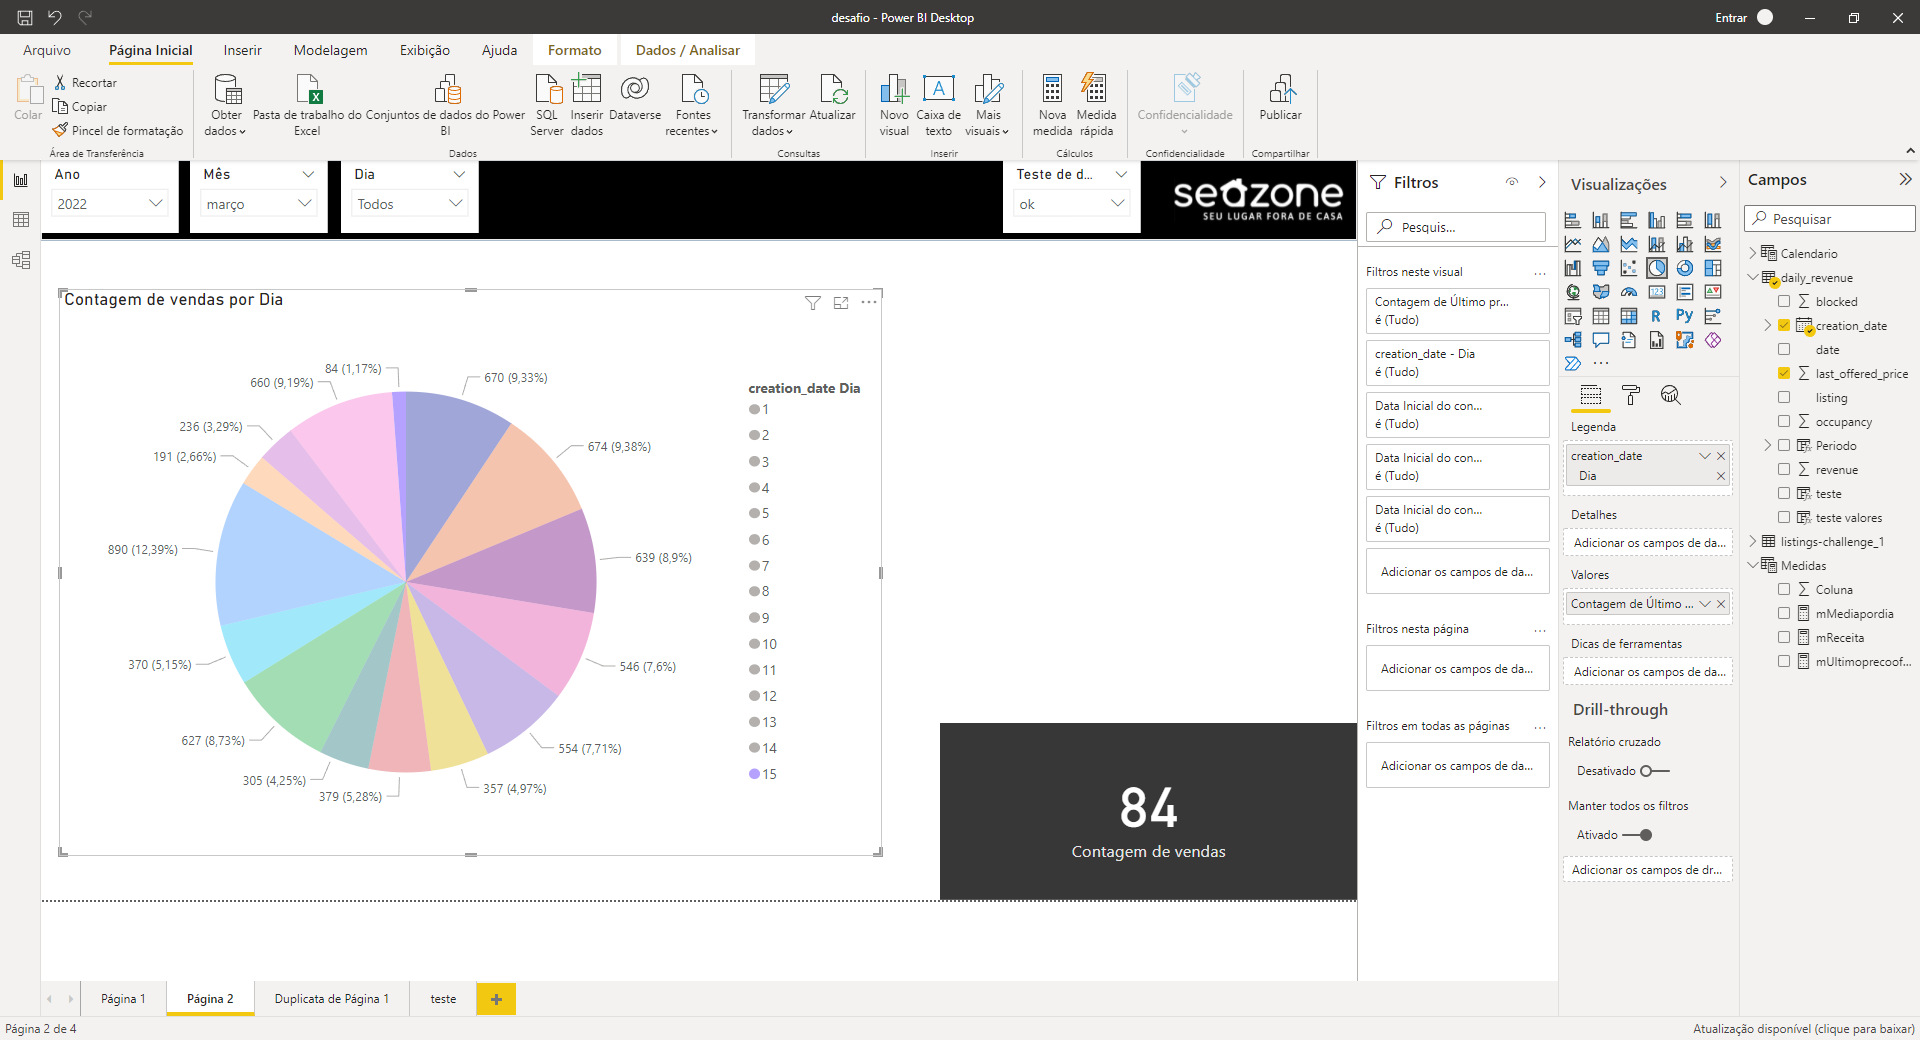

The page's visual inventory and layout, read from the dashboard file:
{"tool":"powerbi","page":{"name":"Página 2","canvas":[1280,720],"ordinal":1},"visuals":[{"type":"pieChart","title":"Contagem de vendas por Dia","fields":{"Category":["daily_revenue.creation_date.Variation.Hierarquia de datas.Dia"],"Y":["CountNonNull(daily_revenue.last_offered_price)"]},"box":[17.5,125.5,800.5,551.5],"z":0},{"type":"shape","box":[0,0,1280,77.8],"z":1000},{"type":"slicer","fields":{"Values":["daily_revenue.creation_date.Variation.Hierarquia de datas.Ano"]},"box":[0,0,134.2,71],"z":2000},{"type":"image","box":[1097.1,0,175.1,77.8],"z":4000},{"type":"slicer","fields":{"Values":["daily_revenue.teste"]},"box":[935.7,0,134.2,71],"z":6000},{"type":"slicer","fields":{"Values":["daily_revenue.creation_date.Variation.Hierarquia de datas.Mês"]},"box":[144.9,0,134.2,71],"z":7000},{"type":"card","fields":{"Values":["CountNonNull(daily_revenue.last_offered_price)"]},"box":[874.4,547.6,405.6,172.2],"z":11000},{"type":"slicer","fields":{"Values":["daily_revenue.creation_date.Variation.Hierarquia de datas.Dia"]},"box":[291.8,0,134.2,71],"z":13000}]}

Visuals, with their boxes on the page's 1280x720 design canvas (x1, y1, x2, y2). These are canvas units, not pixel positions in the 1920x1040 screenshot, which may show the page scaled, cropped or inside an application window:
"Contagem de vendas por Dia" pieChart: 18, 126, 818, 677
shape: 0, 0, 1280, 78
slicer - daily_revenue.creation_date.Variation.Hierarquia de datas.Ano: 0, 0, 134, 71
image: 1097, 0, 1272, 78
slicer - daily_revenue.teste: 936, 0, 1070, 71
slicer - daily_revenue.creation_date.Variation.Hierarquia de datas.Mês: 145, 0, 279, 71
card - CountNonNull(daily_revenue.last_offered_price): 874, 548, 1280, 720
slicer - daily_revenue.creation_date.Variation.Hierarquia de datas.Dia: 292, 0, 426, 71
